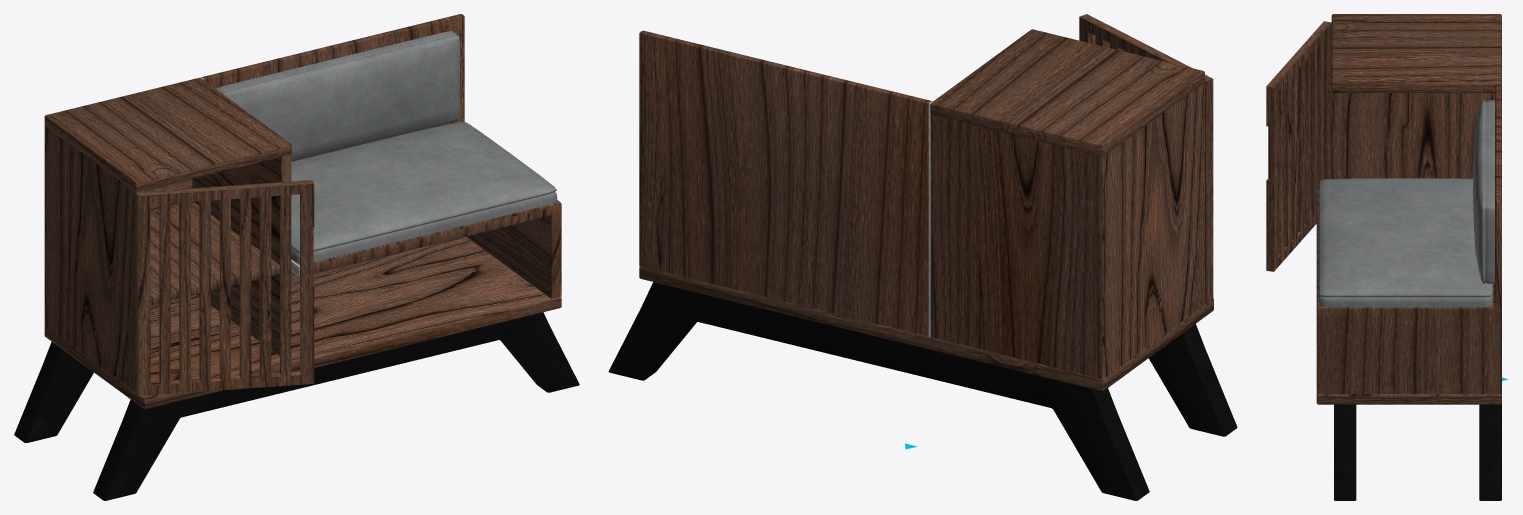
File: Meja-Lemari.fbx
3 views of the same model, side by side, from view 1: azimuth 30°, elevation 25°; view 2: azimuth 150°, elevation 25°; view 3: azimuth 270°, elevation 25° (orthographic). The views are drawn at different scales.
Parts seen in each view (by area): view 1: Cube.002, Cube.064, Cube.005, Cube.009, Cube.063, Cube.006, Cube.004, Cube.010, Cube.008, Cube.007; view 2: Cube.010, Cube.005, Cube.007, Cube.006, Cube.002, Cube.004, Cube.064; view 3: Cube.009, Cube.010, Cube.006, Cube.005, Cube.064, Cube.063, Cube.007, Cube.004, Cube.002.
Boxes of the visible parts, bbox=[...] form: Cube.002: bbox=[44, 236, 561, 409]; Cube.064: bbox=[136, 180, 314, 396]; Cube.005: bbox=[44, 125, 291, 391]; Cube.009: bbox=[291, 121, 557, 263]; Cube.063: bbox=[216, 31, 459, 161]; Cube.006: bbox=[44, 77, 291, 191]; Cube.004: bbox=[93, 312, 579, 500]; Cube.010: bbox=[200, 14, 561, 298]; Cube.008: bbox=[150, 202, 279, 305]; Cube.007: bbox=[14, 342, 93, 442]; Cube.010: bbox=[639, 30, 932, 336]; Cube.005: bbox=[930, 82, 1204, 378]; Cube.007: bbox=[608, 282, 1149, 500]; Cube.006: bbox=[930, 29, 1204, 156]; Cube.002: bbox=[639, 266, 1213, 391]; Cube.004: bbox=[1148, 324, 1237, 436]; Cube.064: bbox=[1079, 14, 1213, 303]; Cube.009: bbox=[1318, 178, 1493, 307]; Cube.010: bbox=[1316, 83, 1501, 394]; Cube.006: bbox=[1331, 14, 1501, 92]; Cube.005: bbox=[1331, 92, 1494, 178]; Cube.064: bbox=[1266, 21, 1331, 271]; Cube.063: bbox=[1472, 100, 1494, 284]; Cube.007: bbox=[1479, 403, 1501, 500]; Cube.004: bbox=[1334, 404, 1356, 500]; Cube.002: bbox=[1316, 394, 1501, 404].
Size of the model in its own units: 206 by 129 by 98.79.
Materials: 2 (2 with a texture image).
